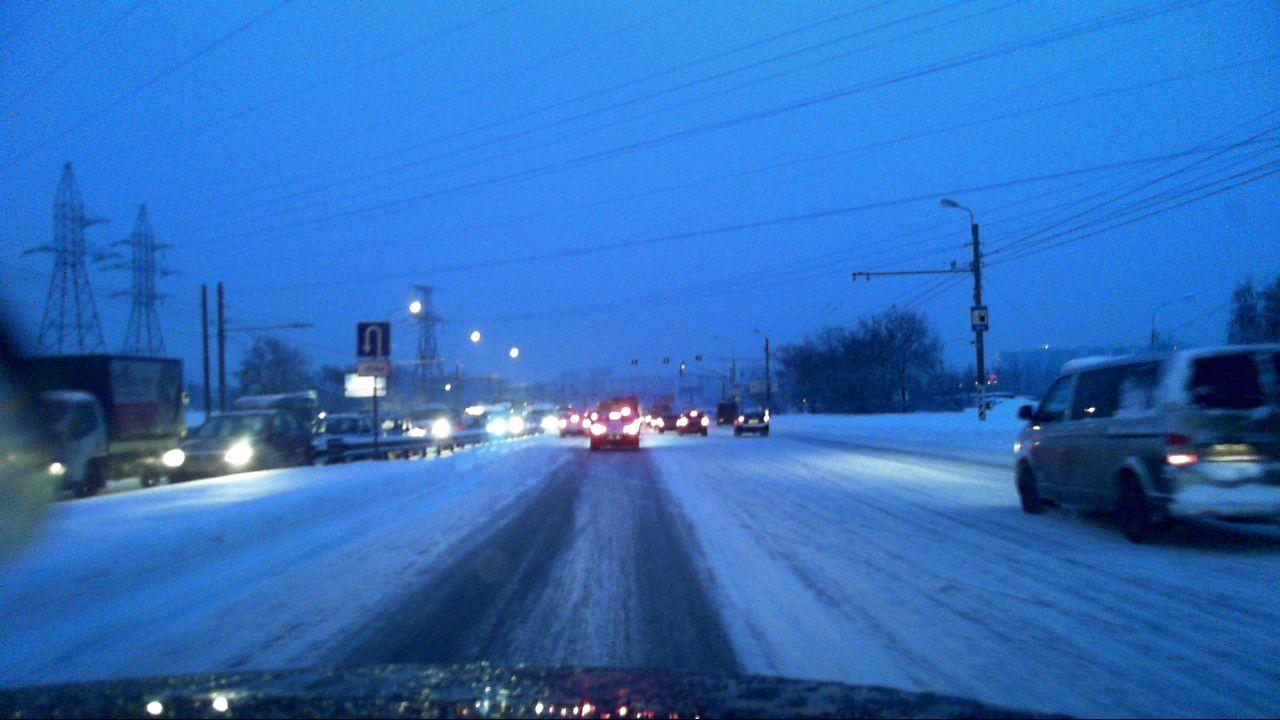6_3_1: (353, 318, 394, 358)
7_3: (973, 306, 991, 331)
8_1_1: (357, 363, 390, 378)
